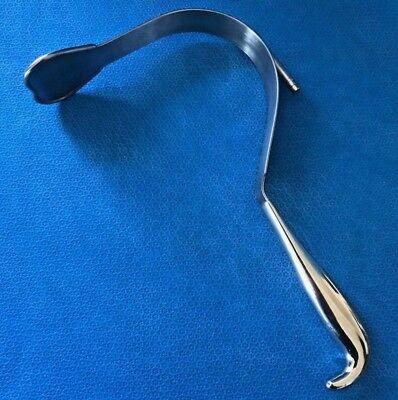Harrington Retractor: (21, 4, 381, 398)
